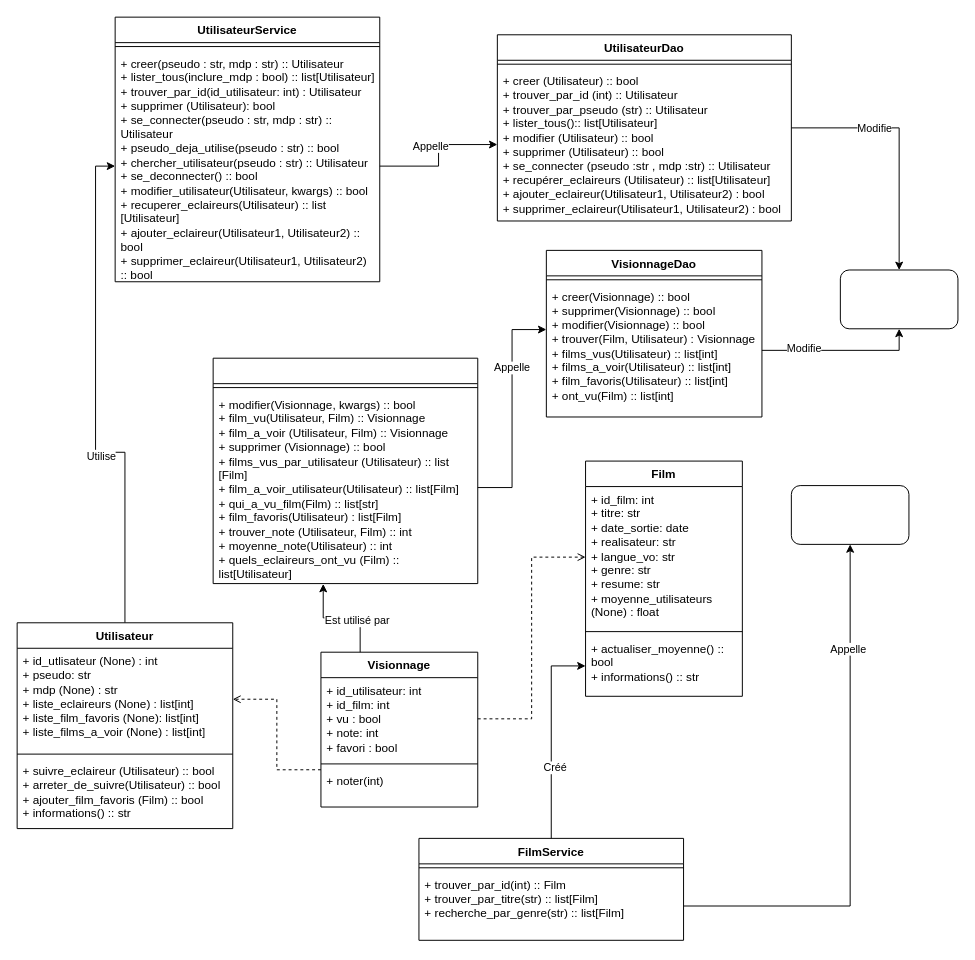
This 975x960 diagram has some shape labels left out. Here are the shapes that lost their labels. From the top down, the box of each, then its label:
(839, 269, 958, 329): Base de données locale
(212, 357, 478, 584): VisionnageService
(790, 485, 909, 544): TMDB API
